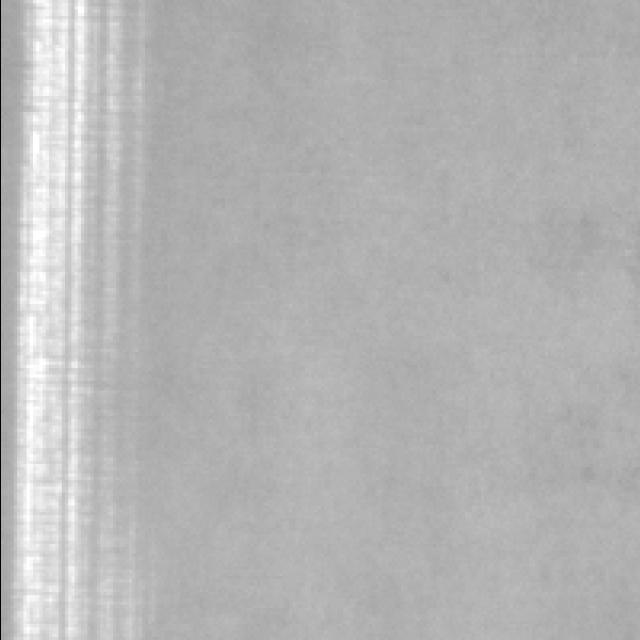scratches: (5, 0, 143, 640)
